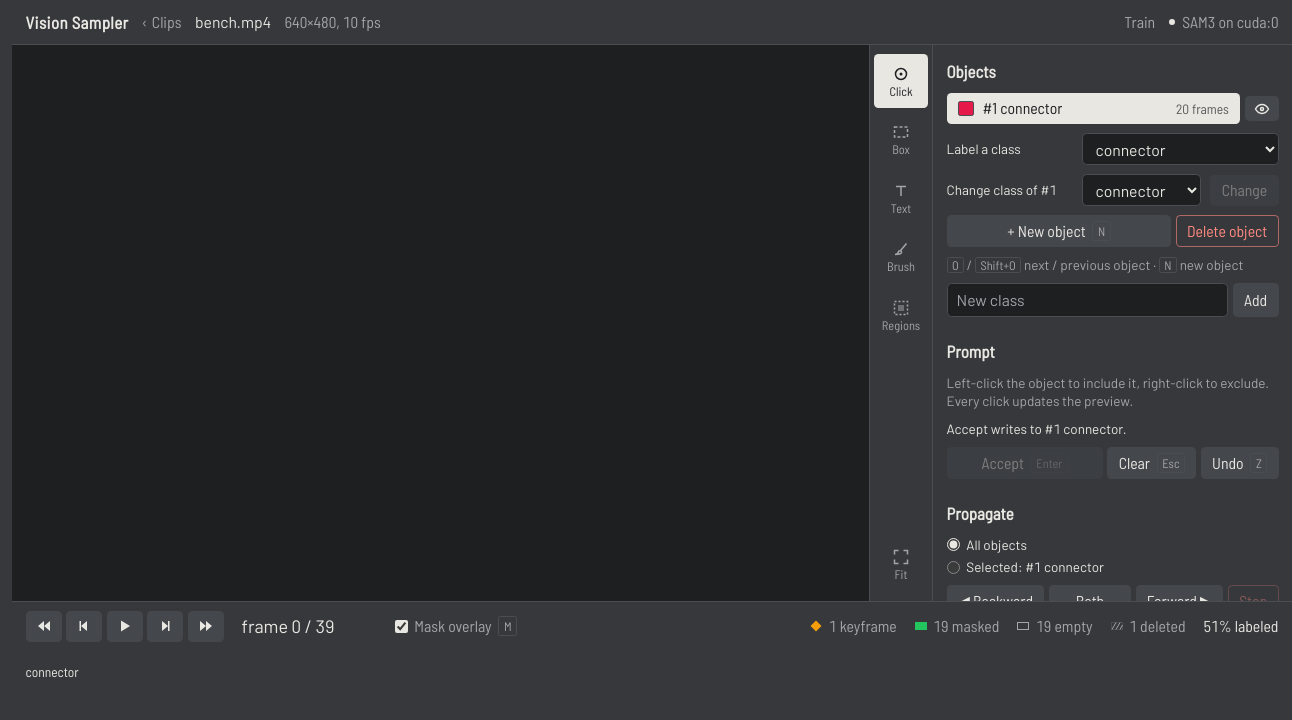
Label page (propagation, cleanup, keyboard) › does not treat a checkbox as a field: shortcuts still work when it is focused
Expected: the heading "bench.mp4" is shown, [195, 11, 271, 33]
Click the checkbox labelled "Mask overlay M" at (401, 626), box [394, 620, 408, 633]
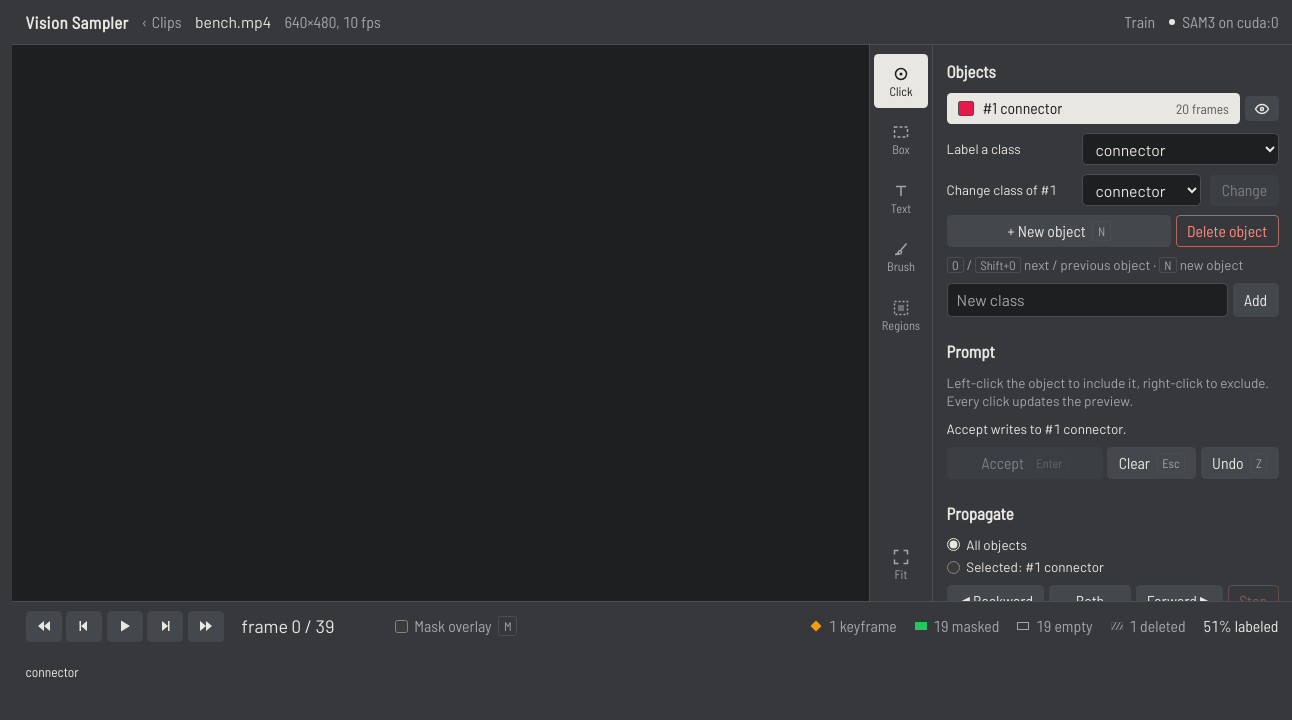
Press ArrowRight in the checkbox labelled "Mask overlay M", box [394, 620, 408, 633]
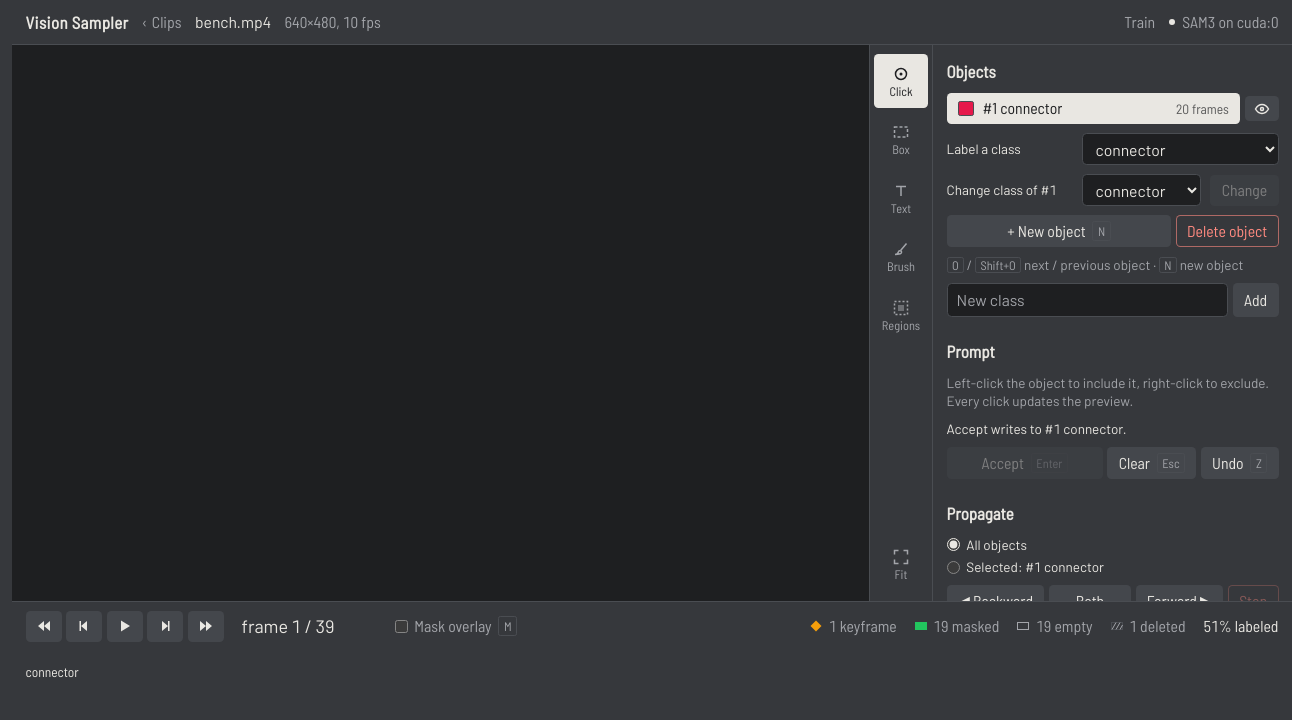
Now the text "frame 1 / 39" is shown, box [242, 615, 334, 637]
